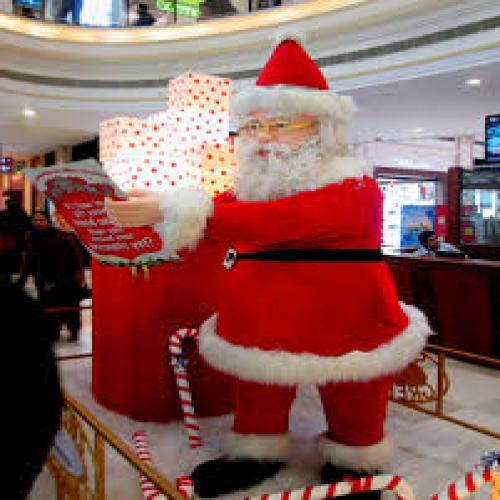Santa: (104, 36, 430, 500)
